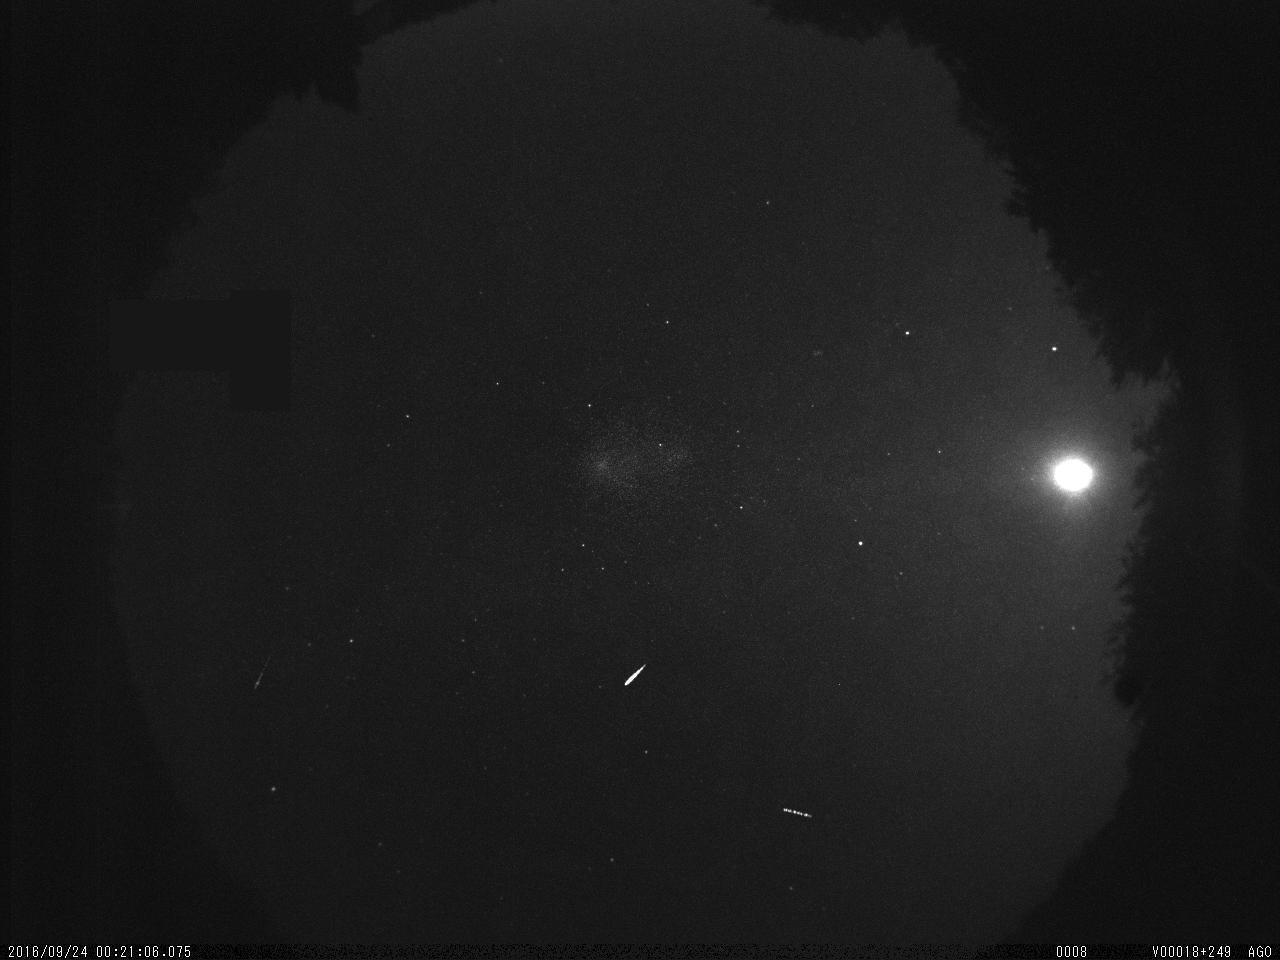meteor: (616, 653, 655, 697)
satelite: (773, 795, 817, 832)
